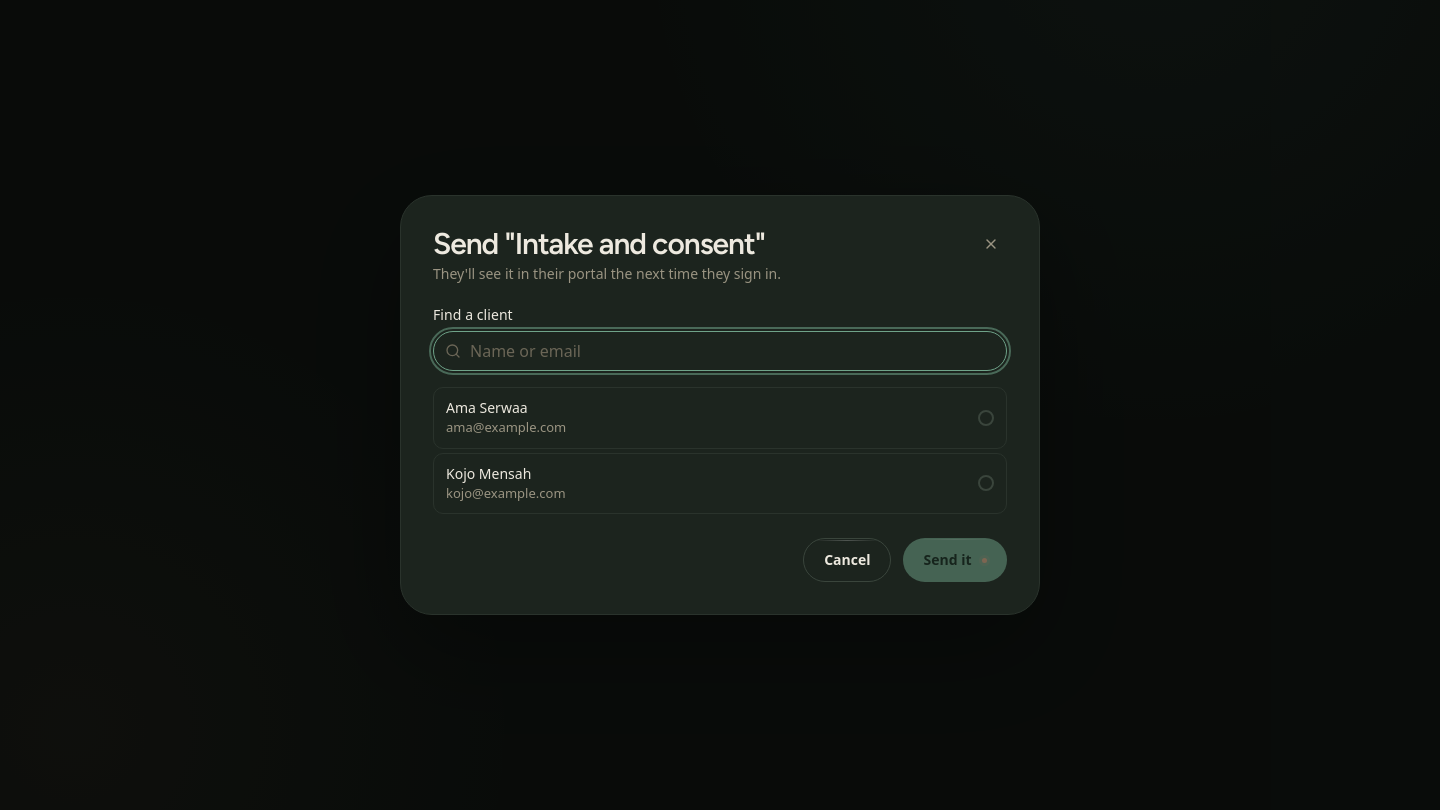
Test: AssignFormModal › filters on name and on email
Expected: the radio button labelled "Ama Serwaa ama@example.com" is shown, [433,387,1007,449]
Step 1. Type "kojo" into the field labelled "Find a client" → (720, 351), box [433,331,1007,371]
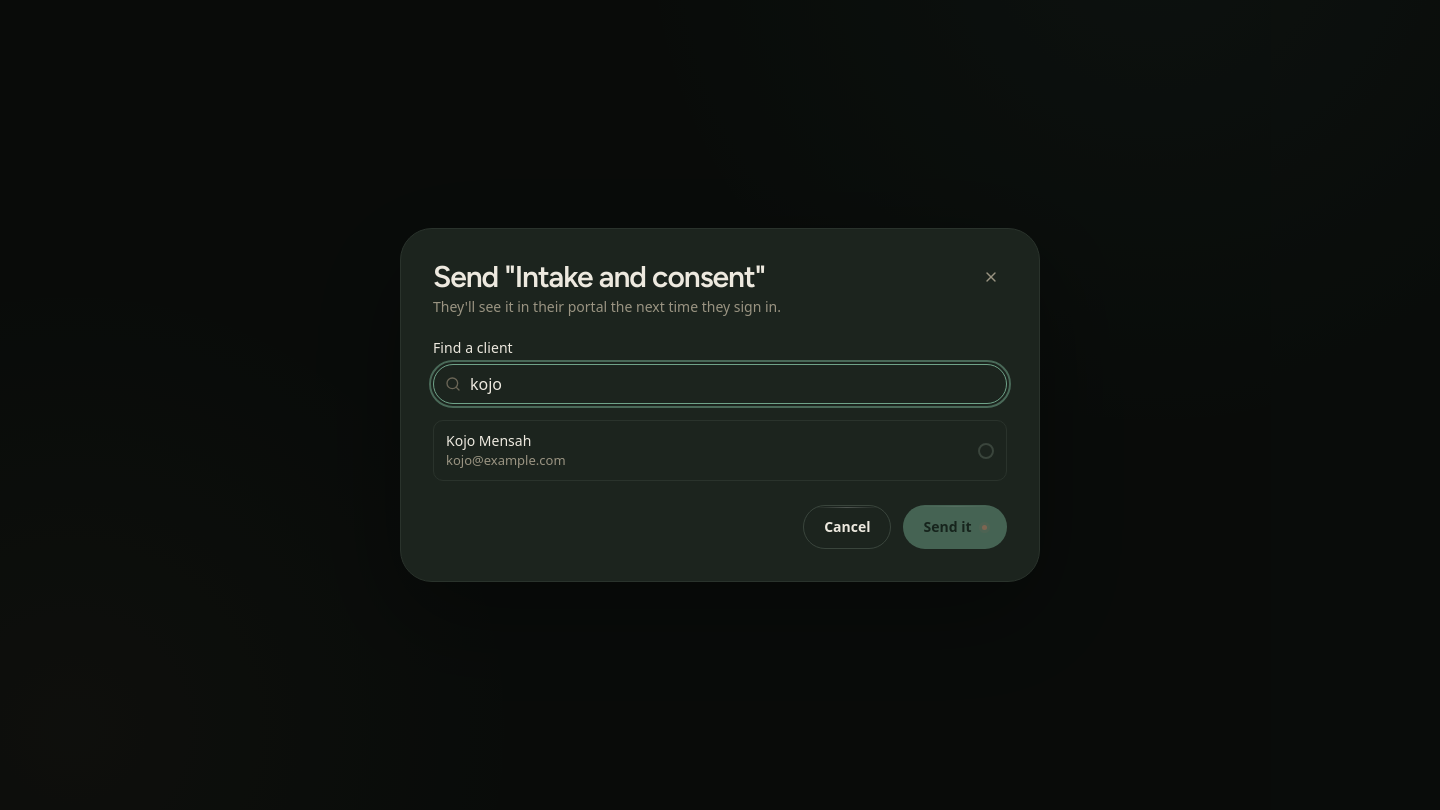
Expected: the number of radio buttons is 1, [433,420,1007,481]
Step 2. Replace the text in the field labelled "Find a client" with "AMA@EXAMPLE" → (720, 384), box [433,364,1007,404]
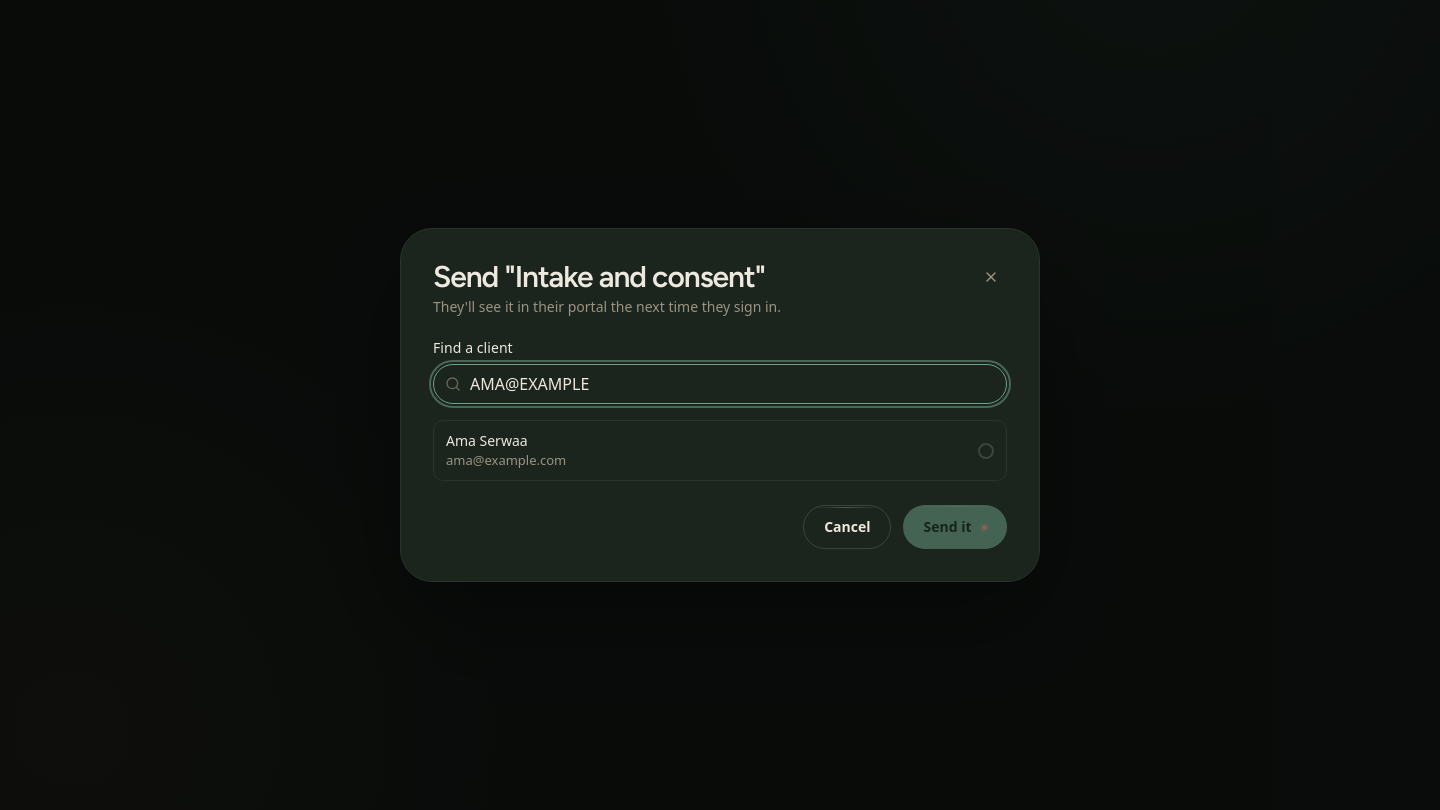
Expected: the radio button labelled "Ama Serwaa ama@example.com" is shown, [433,420,1007,481]
